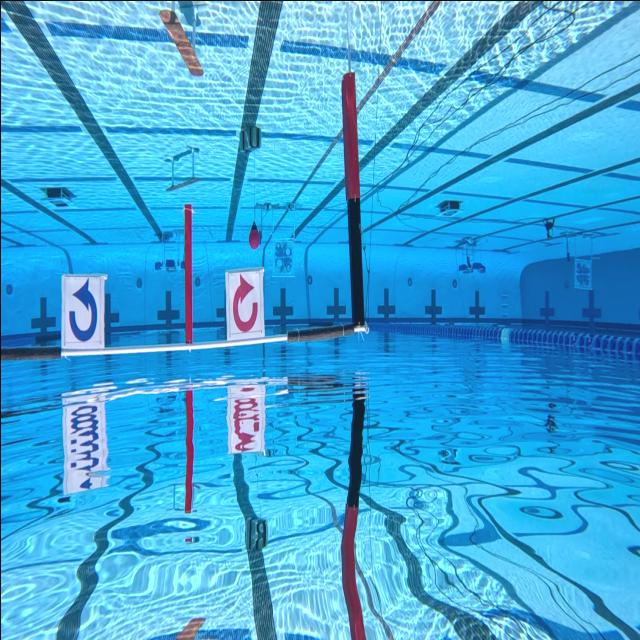blue_side: (58, 272, 102, 348)
red_side: (224, 264, 264, 338)
